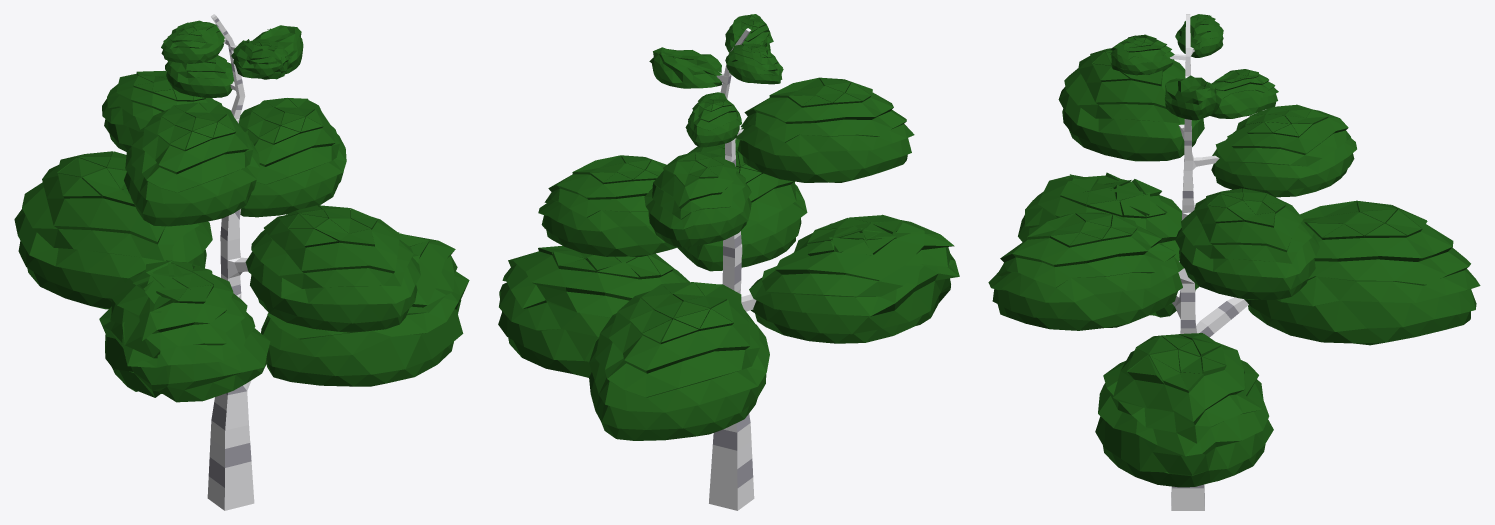
File: Birch.fbx
3 renders of one model, left to right at view 1: azimuth 30°, elevation 25°; view 2: azimuth 150°, elevation 25°; view 3: azimuth 270°, elevation 25°, orthographic. The views are drawn at different scales.
Visible parts, largest first — view 1: Icosphere.004, Icosphere.001, Icosphere.003, Icosphere, Icosphere.006, Icosphere.002, Vert, Icosphere.005, Icosphere.010, Icosphere.008, Icosphere.009, Icosphere.007; view 2: Icosphere.004, Icosphere.001, Icosphere.006, Icosphere, Icosphere.002, Icosphere.005, Icosphere.003, Vert, Icosphere.007, Icosphere.010, Icosphere.008, Icosphere.009; view 3: Icosphere.004, Icosphere, Icosphere.003, Icosphere.002, Icosphere.006, Icosphere.005, Icosphere.001, Vert, Icosphere.010, Icosphere.009, Icosphere.007, Icosphere.008.
Part boxes in pixels (left/top/right/bottom): Icosphere.004: left=14, top=151, right=212, bottom=309; Icosphere.001: left=99, top=260, right=270, bottom=402; Icosphere.003: left=245, top=205, right=420, bottom=332; Icosphere: left=261, top=232, right=469, bottom=386; Icosphere.006: left=124, top=102, right=259, bottom=226; Icosphere.002: left=239, top=98, right=346, bottom=217; Vert: left=207, top=14, right=254, bottom=510; Icosphere.005: left=102, top=71, right=222, bottom=151; Icosphere.010: left=165, top=55, right=234, bottom=97; Icosphere.008: left=161, top=20, right=224, bottom=63; Icosphere.009: left=231, top=39, right=290, bottom=79; Icosphere.007: left=253, top=25, right=303, bottom=74; Icosphere.004: left=589, top=282, right=769, bottom=440; Icosphere.001: left=749, top=214, right=959, bottom=343; Icosphere.006: left=735, top=77, right=914, bottom=182; Icosphere: left=498, top=245, right=689, bottom=377; Icosphere.002: left=538, top=155, right=678, bottom=256; Icosphere.005: left=644, top=151, right=751, bottom=247; Icosphere.003: left=677, top=139, right=807, bottom=271; Vert: left=709, top=28, right=756, bottom=510; Icosphere.007: left=649, top=47, right=721, bottom=88; Icosphere.010: left=685, top=92, right=741, bottom=147; Icosphere.008: left=725, top=43, right=783, bottom=84; Icosphere.009: left=725, top=14, right=773, bottom=52; Icosphere.004: left=1244, top=200, right=1480, bottom=345; Icosphere: left=1095, top=333, right=1273, bottom=487; Icosphere.003: left=988, top=212, right=1183, bottom=330; Icosphere.002: left=1175, top=188, right=1319, bottom=299; Icosphere.006: left=1058, top=48, right=1204, bottom=161; Icosphere.005: left=1211, top=104, right=1356, bottom=197; Icosphere.001: left=1018, top=172, right=1198, bottom=317; Vert: left=1170, top=14, right=1248, bottom=510; Icosphere.010: left=1210, top=69, right=1278, bottom=118; Icosphere.009: left=1110, top=34, right=1174, bottom=75; Icosphere.007: left=1164, top=75, right=1221, bottom=120; Icosphere.008: left=1175, top=14, right=1223, bottom=57.
Size of the model in its own units: 903 by 1041 by 963.
